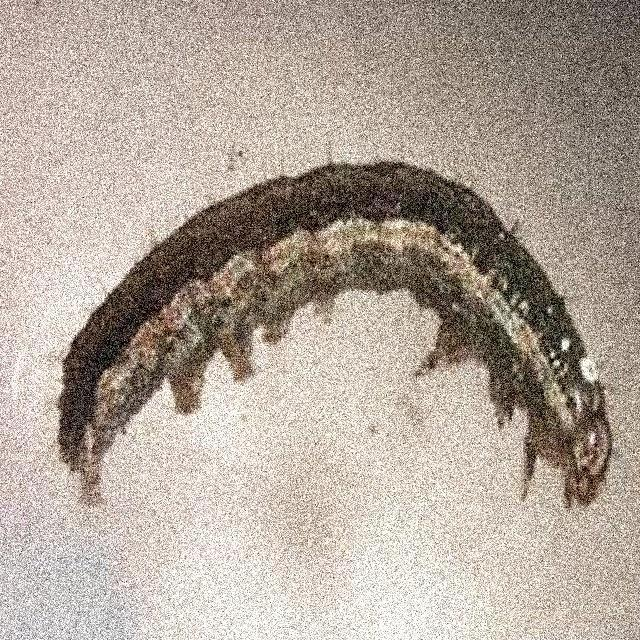Plaga: (55, 150, 614, 518)
